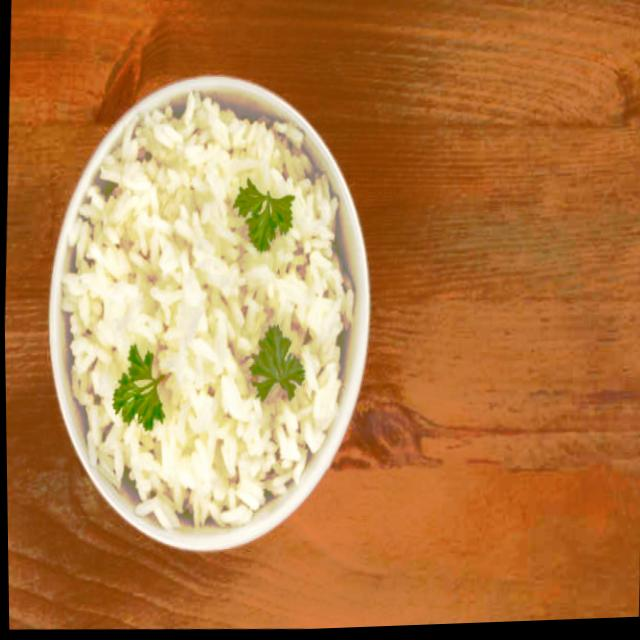rice: (51, 78, 364, 541)
